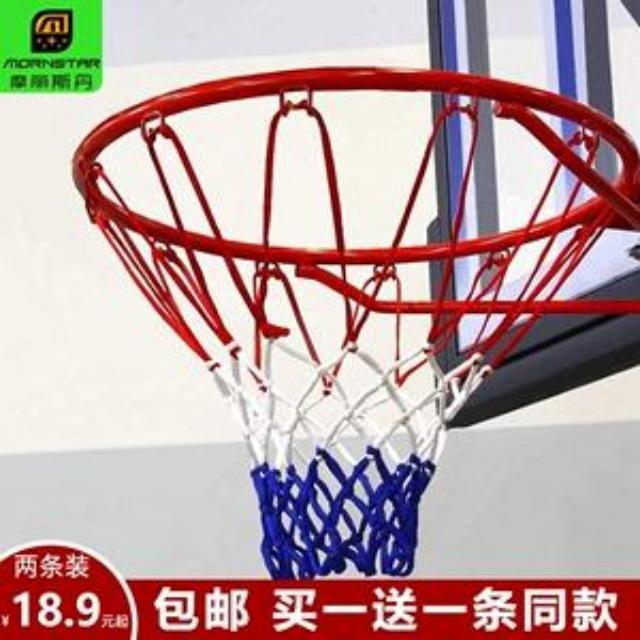rim: (71, 65, 635, 579)
